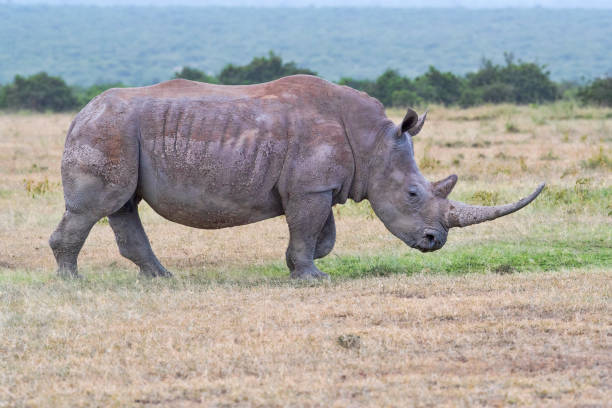rhino: (363, 91, 558, 266)
